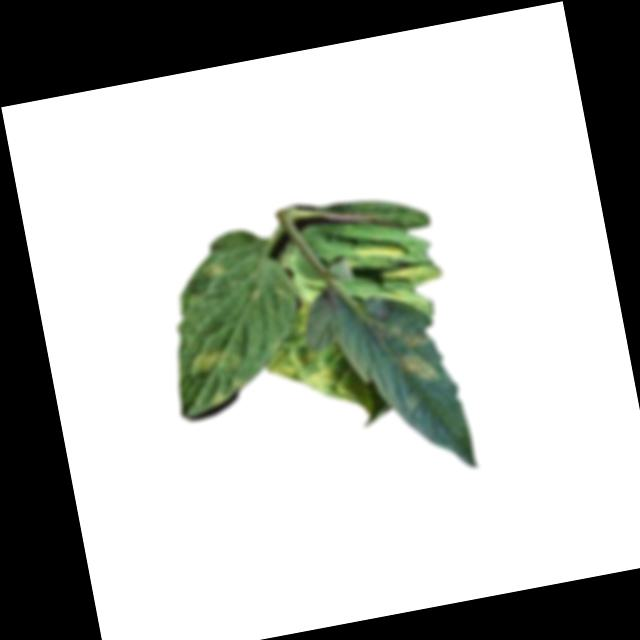Leaf_Mold: (250, 292, 354, 405), (378, 254, 445, 296), (184, 342, 248, 380), (351, 231, 410, 267), (397, 346, 440, 388), (199, 259, 229, 283)
